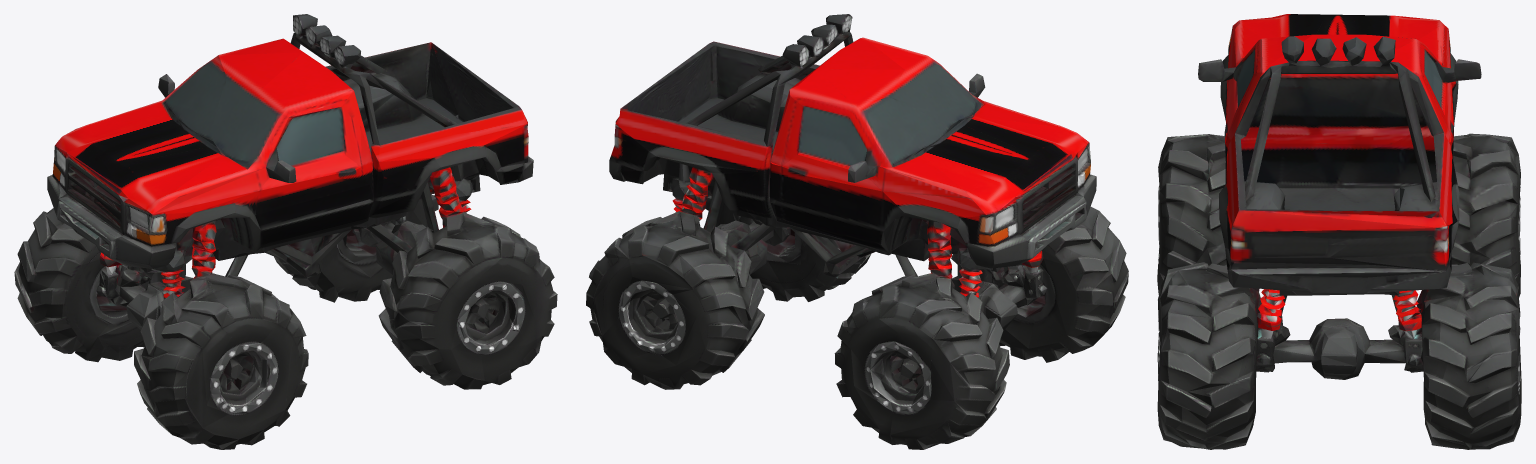
Rendered from crusher.glb.
The picture shows the model from 3 angles, left to right: view 1: azimuth 30°, elevation 25°; view 2: azimuth 150°, elevation 25°; view 3: azimuth 270°, elevation 25°; orthographic projection. The views are drawn at different scales.
Bounding box in the file's own units: 1.9 × 1.46 × 1.36.
1 material, 1 textured.
